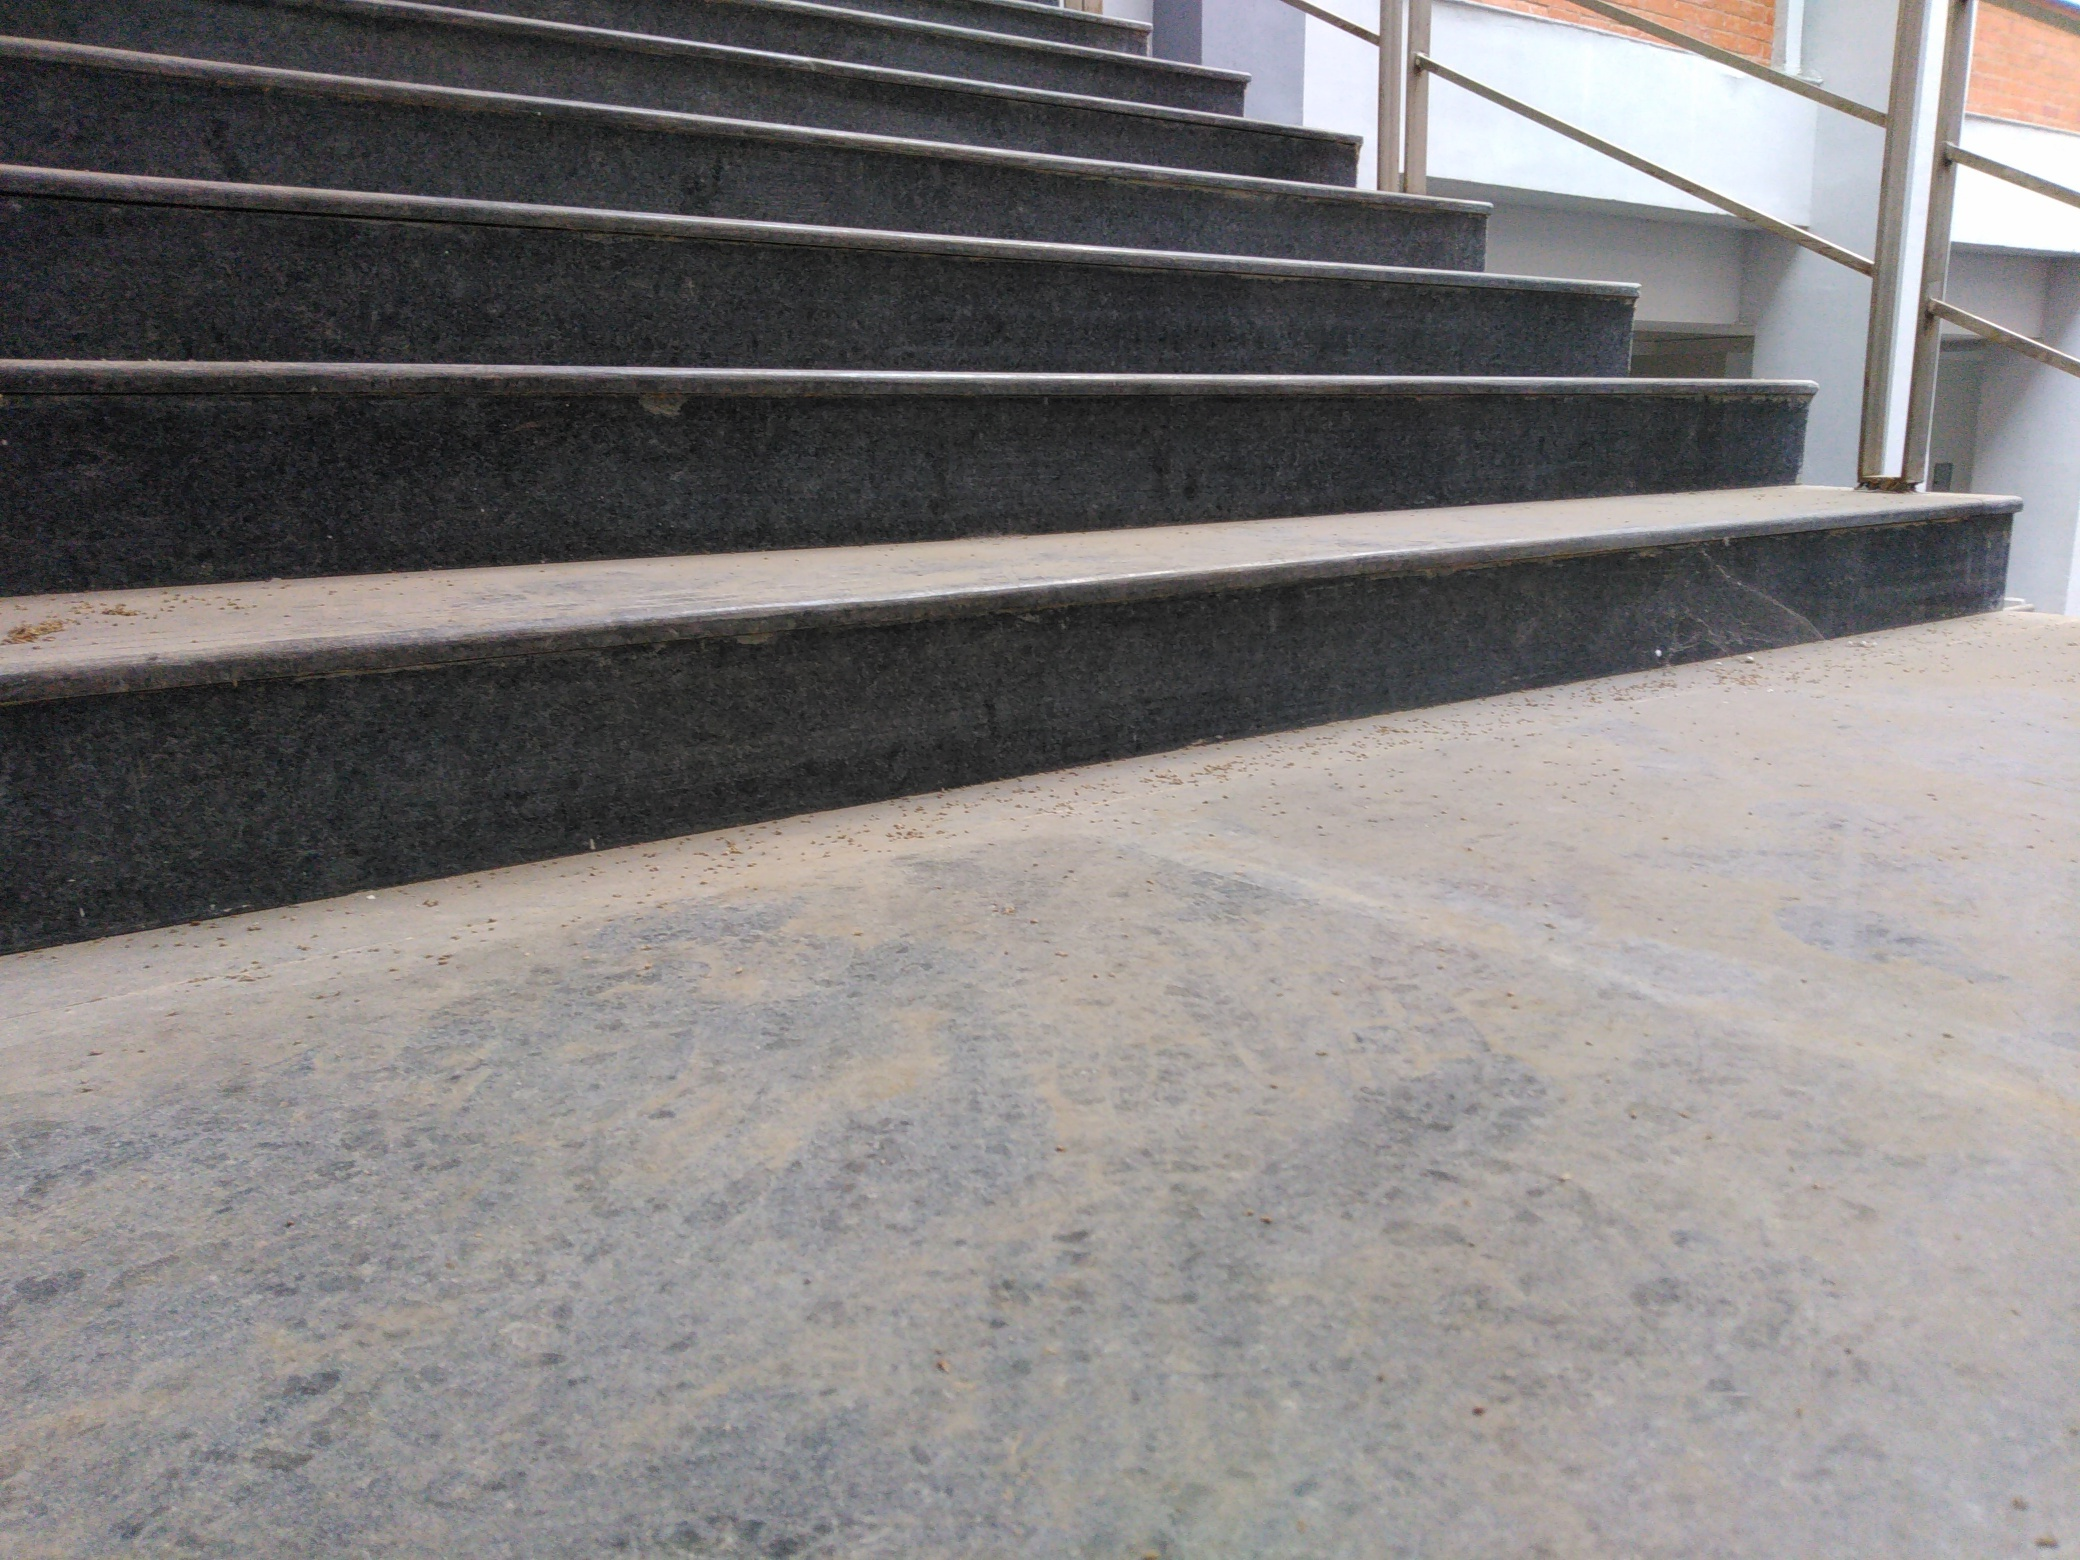stairs_up: (29, 25, 1603, 785)
